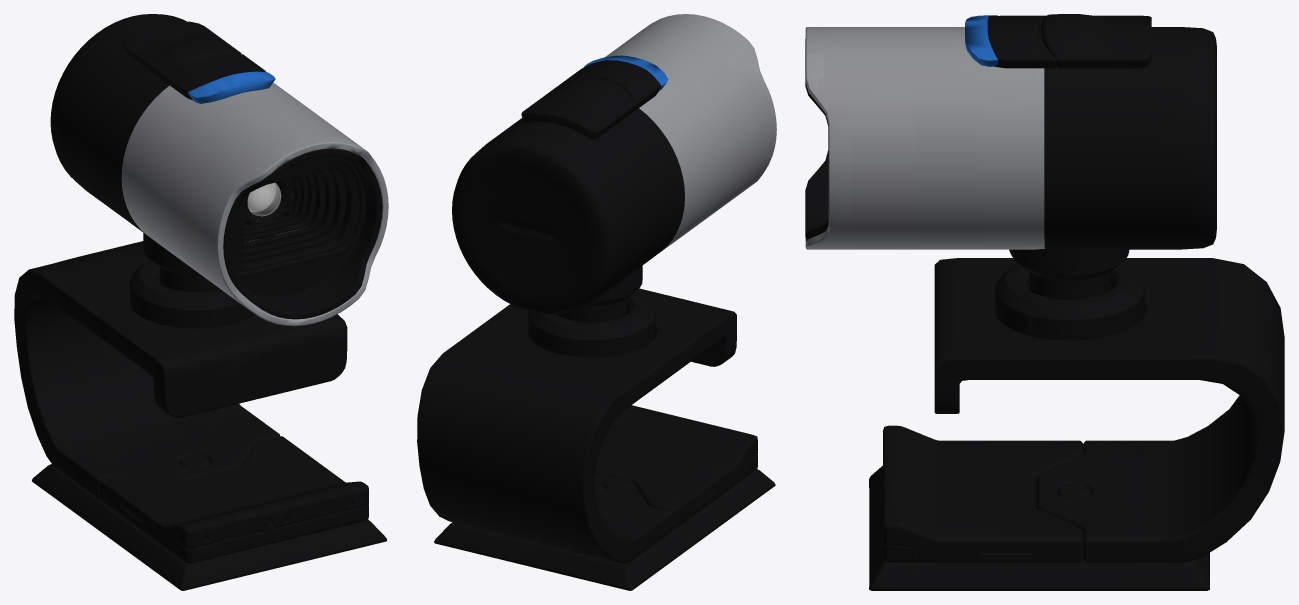
File: dev-webcam_lod1.glb
3 renders of one model, left to right at view 1: azimuth 30°, elevation 25°; view 2: azimuth 150°, elevation 25°; view 3: azimuth 270°, elevation 25°, orthographic. The views are drawn at different scales.
Parts seen in each view (by area): view 1: body; view 2: body; view 3: body.
Part boxes in pixels (left/top/right/bottom): body: left=14, top=14, right=388, bottom=590; body: left=417, top=14, right=776, bottom=590; body: left=805, top=14, right=1284, bottom=590.
Bounding box in the file's own units: 0.0474 × 0.1 × 0.0846.
Materials: 6 (1 with a texture image).
